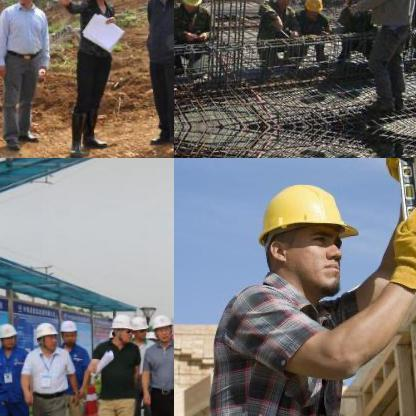Helmet: (246, 166, 360, 300), (108, 313, 134, 343), (150, 308, 172, 342), (33, 320, 57, 349), (58, 316, 78, 344), (0, 319, 18, 349), (133, 312, 147, 340), (302, 0, 323, 18), (271, 0, 295, 10), (177, 0, 202, 9), (349, 0, 372, 7)
